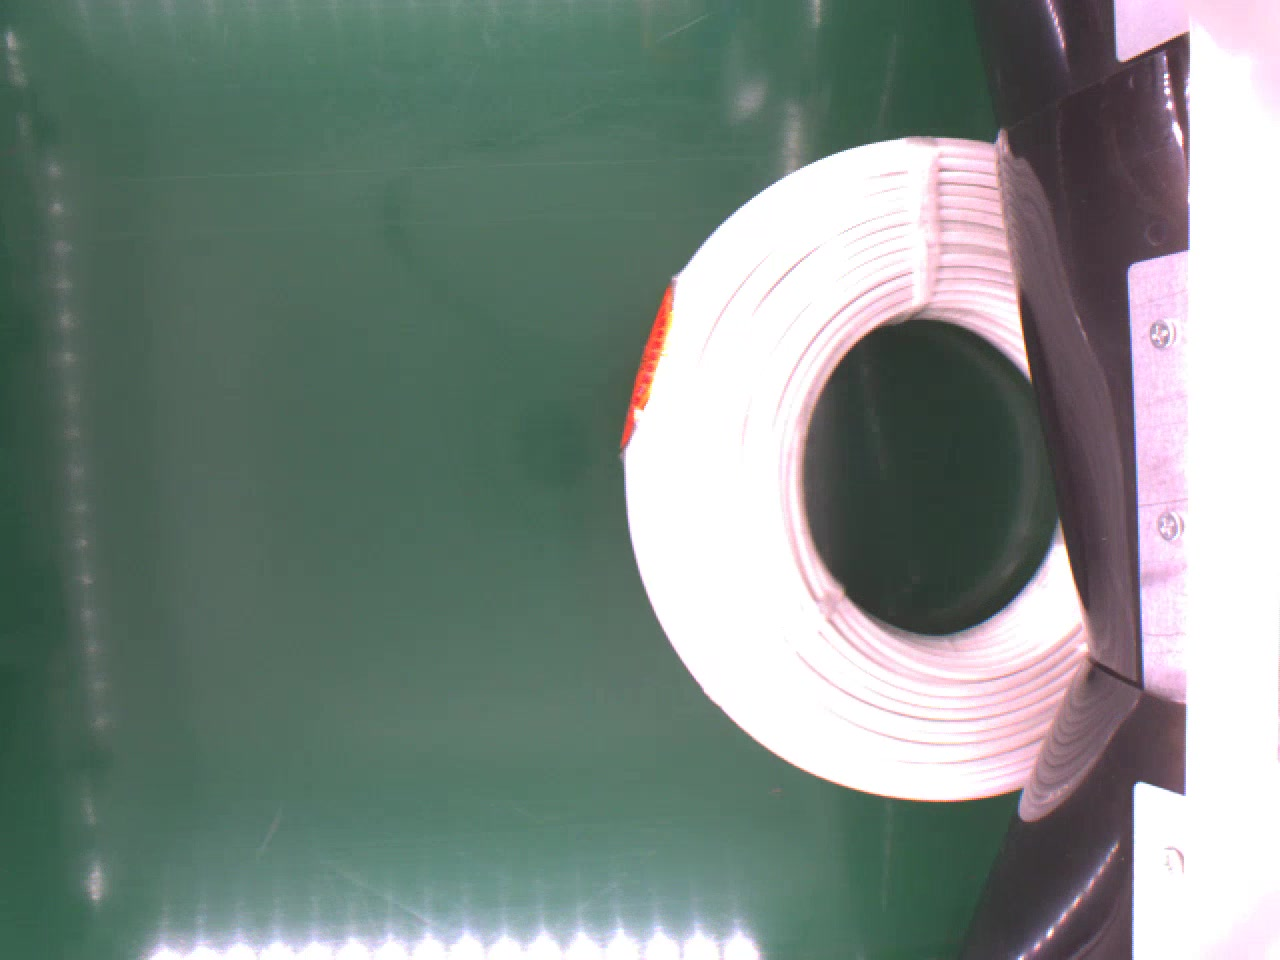white: (615, 134, 1087, 798)
